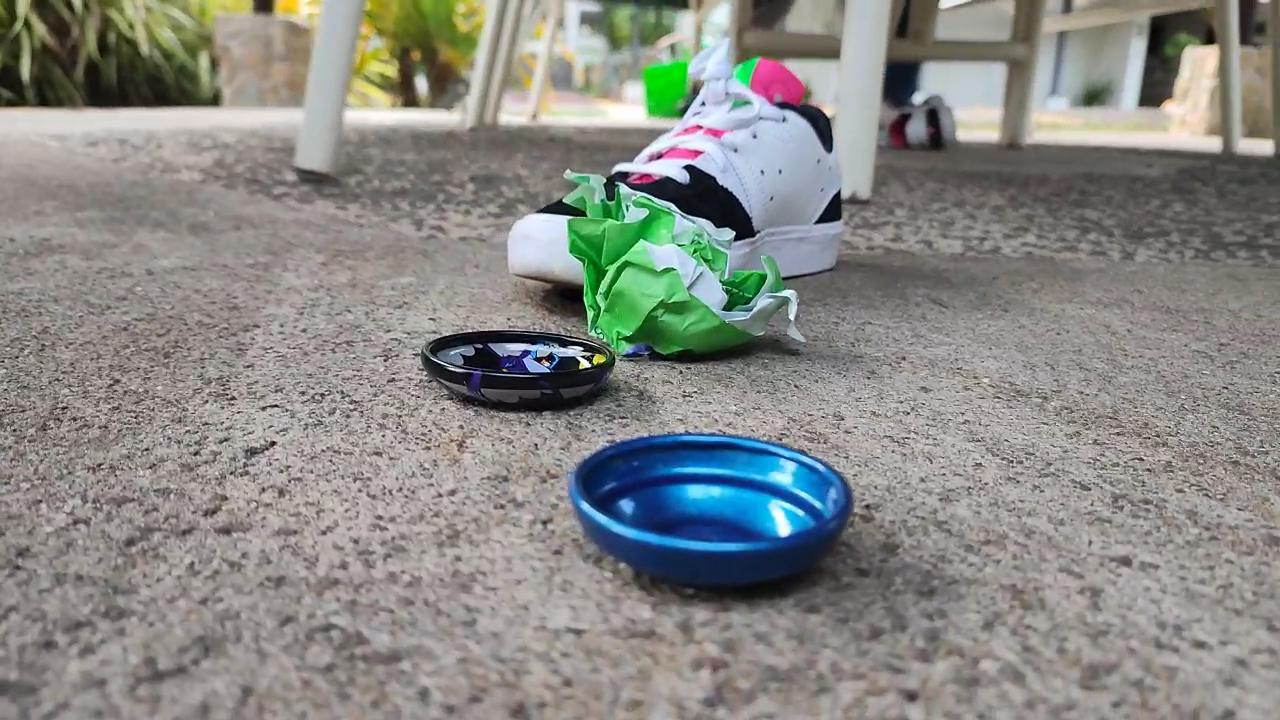Paper: (545, 152, 823, 373)
